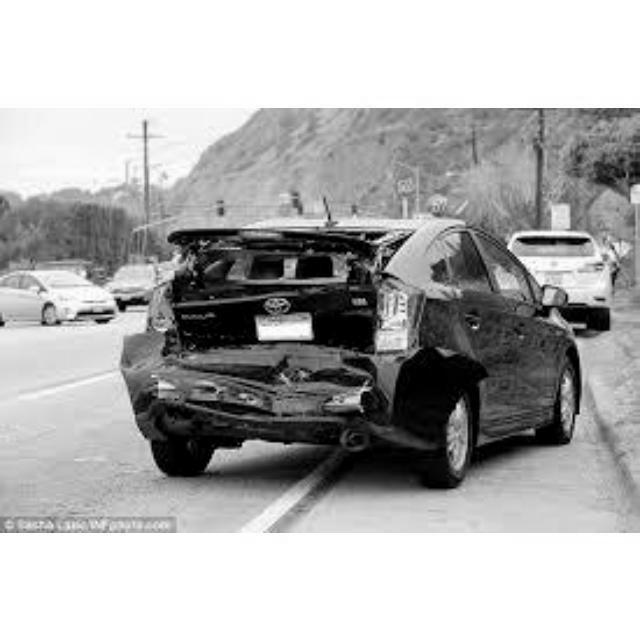rear-bumper-dent: (129, 351, 368, 437)
